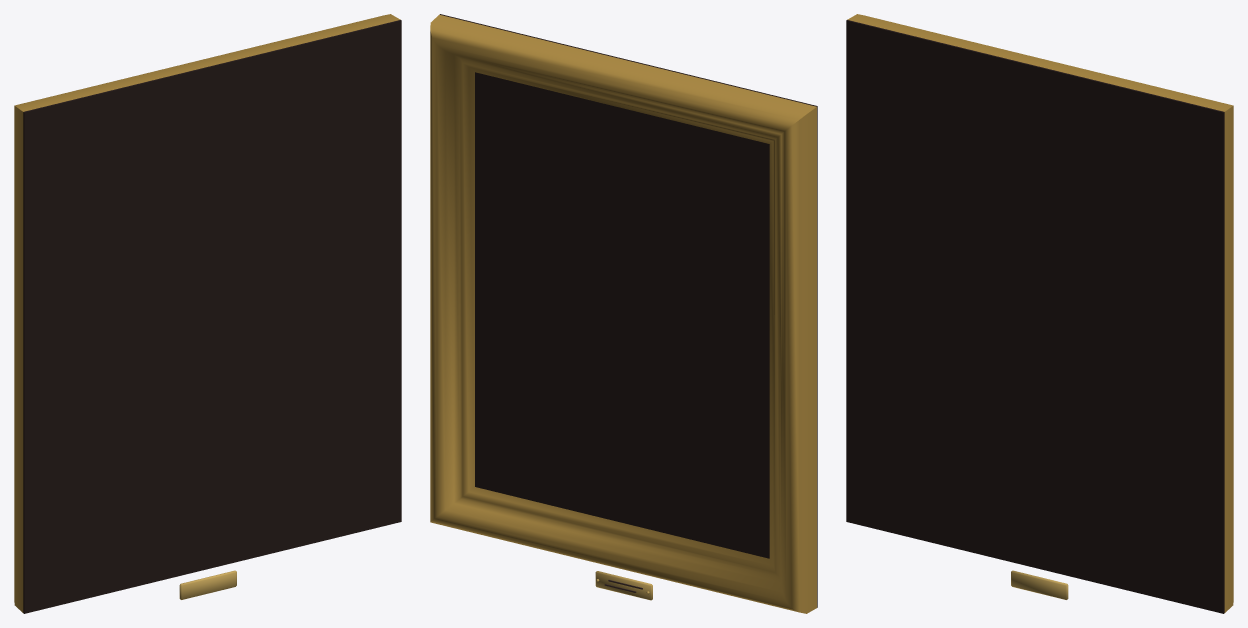
The model's file is gilt_simple_port.glb.
The picture shows the model from 3 angles, left to right: view 1: azimuth 30°, elevation 25°; view 2: azimuth 150°, elevation 25°; view 3: azimuth 330°, elevation 25°; orthographic projection.
Parts seen in each view (by area): view 1: gilt_simple_port; view 2: gilt_simple_port; view 3: gilt_simple_port.
Boxes of the visible parts, <box> form: gilt_simple_port: <box>14,14,401,613</box>; gilt_simple_port: <box>430,14,817,613</box>; gilt_simple_port: <box>846,14,1233,613</box>.
Size of what is drawn, in the model's own units: 0.93 by 1.25 by 0.074.
